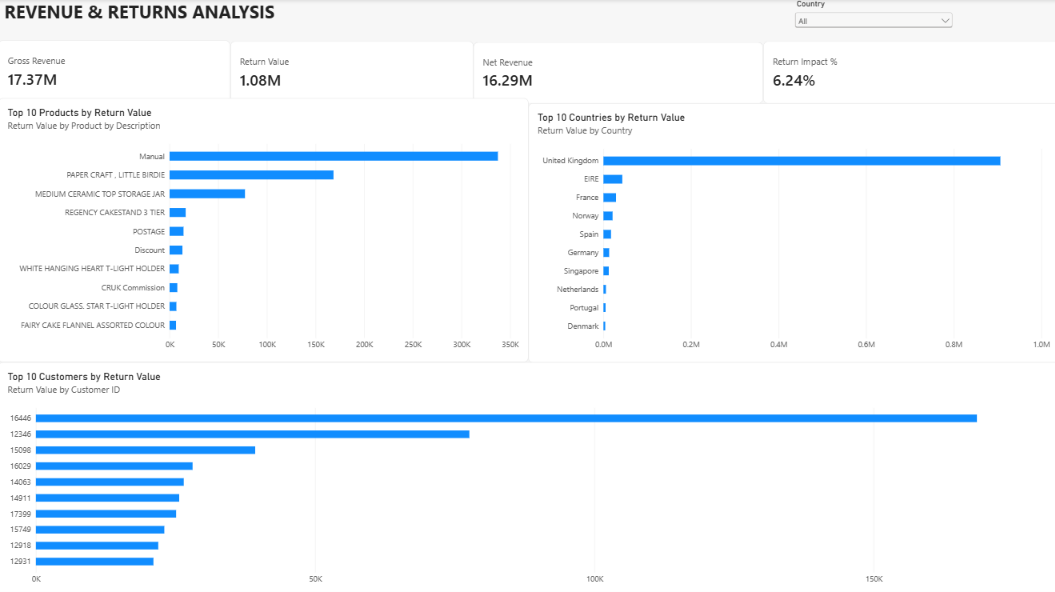

Layout of this report page (visuals, bound fields, positions):
{"tool":"powerbi","page":{"name":"Revenue & Returns Analysis","canvas":[1920,1080],"ordinal":2},"visuals":[{"type":"cardVisual","fields":{"Data":["cancellation_returns_clean.Gross Revenue"]},"box":[0,74.1,419.9,113.2],"z":0},{"type":"cardVisual","fields":{"Data":["cancellation_returns_clean.Net Revenue"]},"box":[860.4,78.2,524.9,111.1],"z":1000},{"type":"cardVisual","fields":{"Data":["cancellation_returns_clean.Return Value"]},"box":[419.9,76.2,440.5,113.2],"z":2000},{"type":"cardVisual","fields":{"Data":["cancellation_returns_clean.Return Impact %"]},"box":[1385.3,76.2,535.2,113.2],"z":3000},{"type":"textbox","box":[10.3,0,759.5,59.7],"z":4000},{"type":"slicer","fields":{"Values":["customer_metrics.Country"]},"box":[1436.7,0,294.3,356.1],"z":5001},{"type":"clusteredBarChart","title":"Top 10 Products by Return Value","fields":{"Category":["cancellation_returns_clean.Description"],"Y":["cancellation_returns_clean.Return Value by Product"]},"box":[0,179.1,959.2,477.5],"z":5002},{"type":"clusteredBarChart","title":"Top 10 Countries by Return Value","fields":{"Category":["cancellation_returns_clean.Country"],"Y":["cancellation_returns_clean.Return Value"]},"box":[959.2,187.3,961.2,469.3],"z":5003},{"type":"clusteredBarChart","title":"Top 10 Customers by Return Value","fields":{"Category":["cancellation_returns_clean.Customer ID"],"Y":["cancellation_returns_clean.Return Value"]},"box":[0,656.6,1920.4,424],"z":5004}]}

Visuals, with their boxes in screenshot pixels (x1, y1, x2, y2), scaled from the page's 1920x1080 canvas onto the 1055x592 screenshot:
cardVisual - cancellation_returns_clean.Gross Revenue: l=0, t=41, r=231, b=103
cardVisual - cancellation_returns_clean.Net Revenue: l=473, t=43, r=761, b=104
cardVisual - cancellation_returns_clean.Return Value: l=231, t=42, r=473, b=104
cardVisual - cancellation_returns_clean.Return Impact %: l=761, t=42, r=1054, b=104
textbox: l=6, t=0, r=423, b=33
slicer - customer_metrics.Country: l=789, t=0, r=951, b=195
"Top 10 Products by Return Value" clusteredBarChart: l=0, t=98, r=527, b=360
"Top 10 Countries by Return Value" clusteredBarChart: l=527, t=103, r=1054, b=360
"Top 10 Customers by Return Value" clusteredBarChart: l=0, t=360, r=1054, b=591
